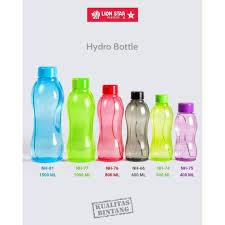BIODEGRADABLE: (148, 92, 179, 165)
